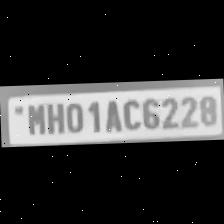0: (62, 98, 84, 133)
1: (83, 98, 103, 134)
2: (158, 94, 180, 128), (177, 92, 197, 128)
6: (138, 92, 158, 128)
8: (196, 90, 216, 125)
A: (100, 96, 120, 132)
C: (119, 95, 141, 130)
H: (44, 99, 64, 135)
M: (22, 100, 44, 136)
